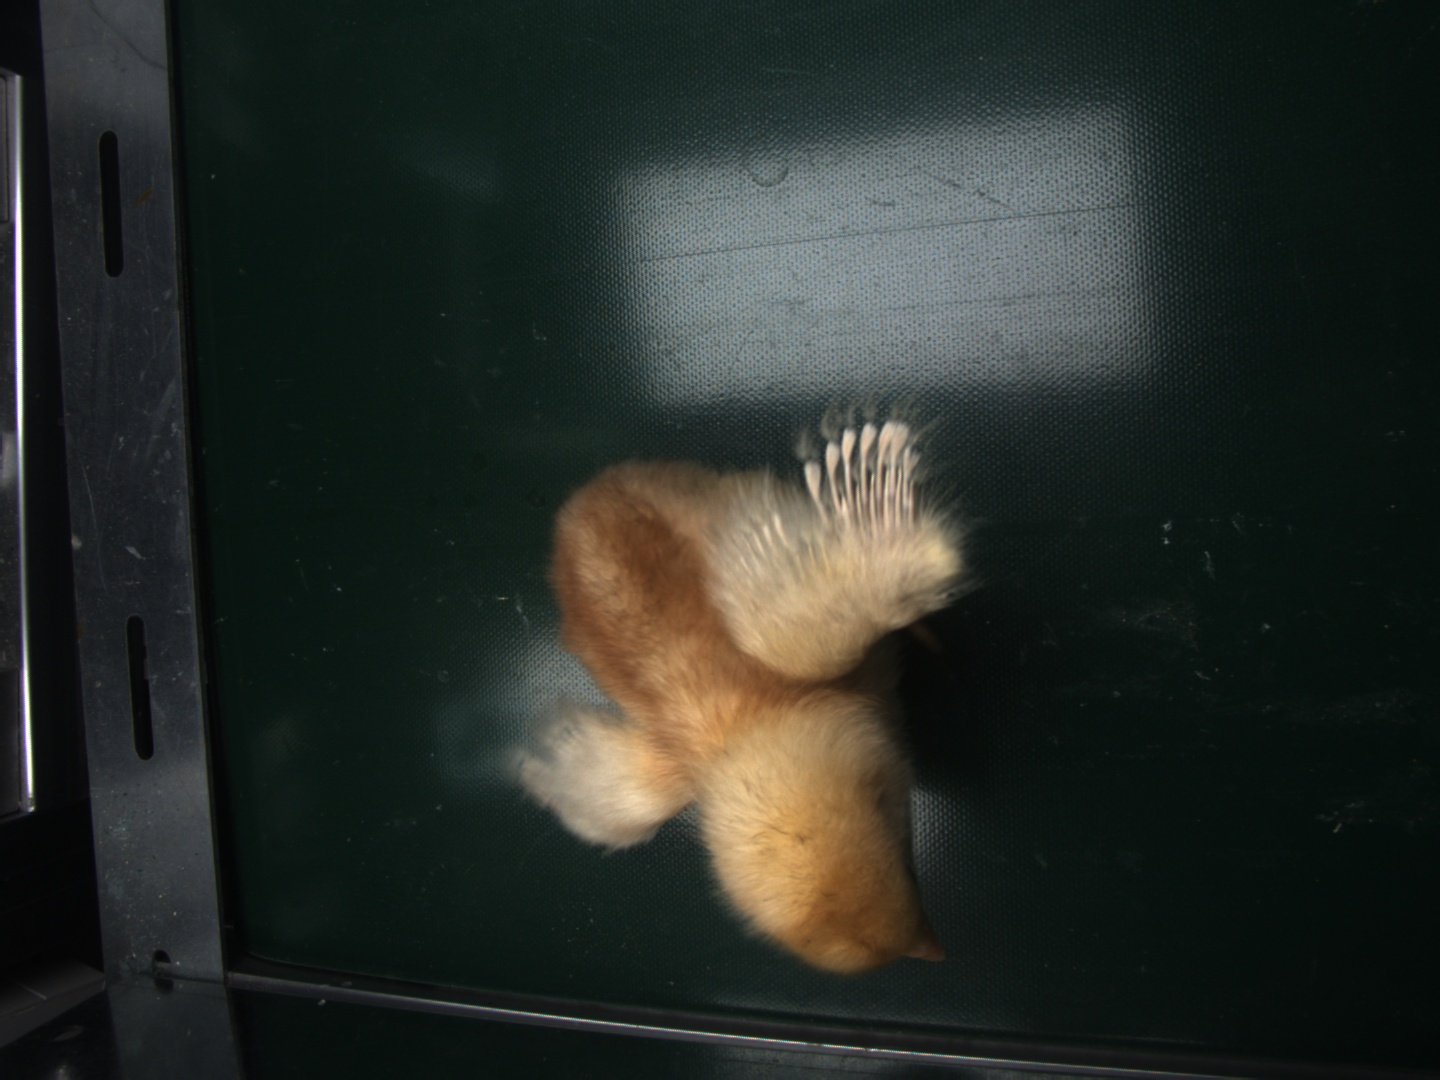female: (816, 417, 930, 511)
